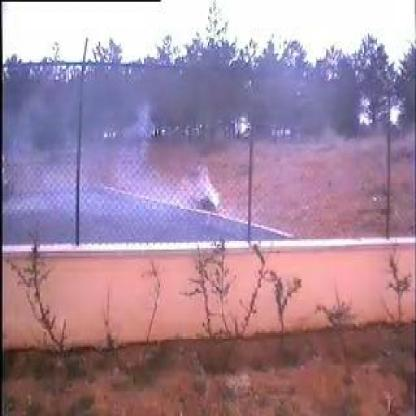-: (79, 60, 255, 242)
